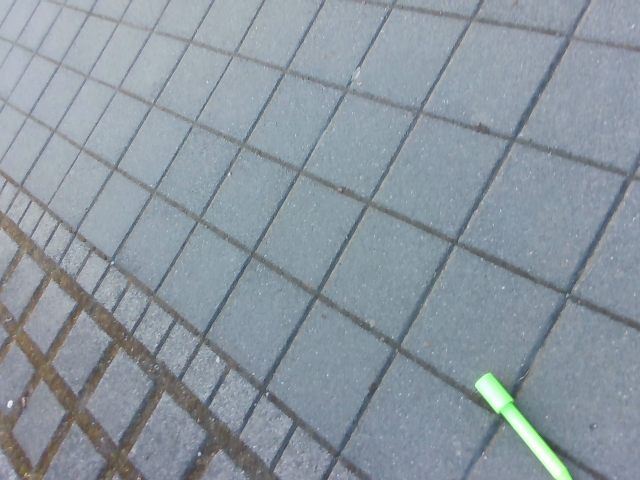Probe: (470, 366, 575, 480)
